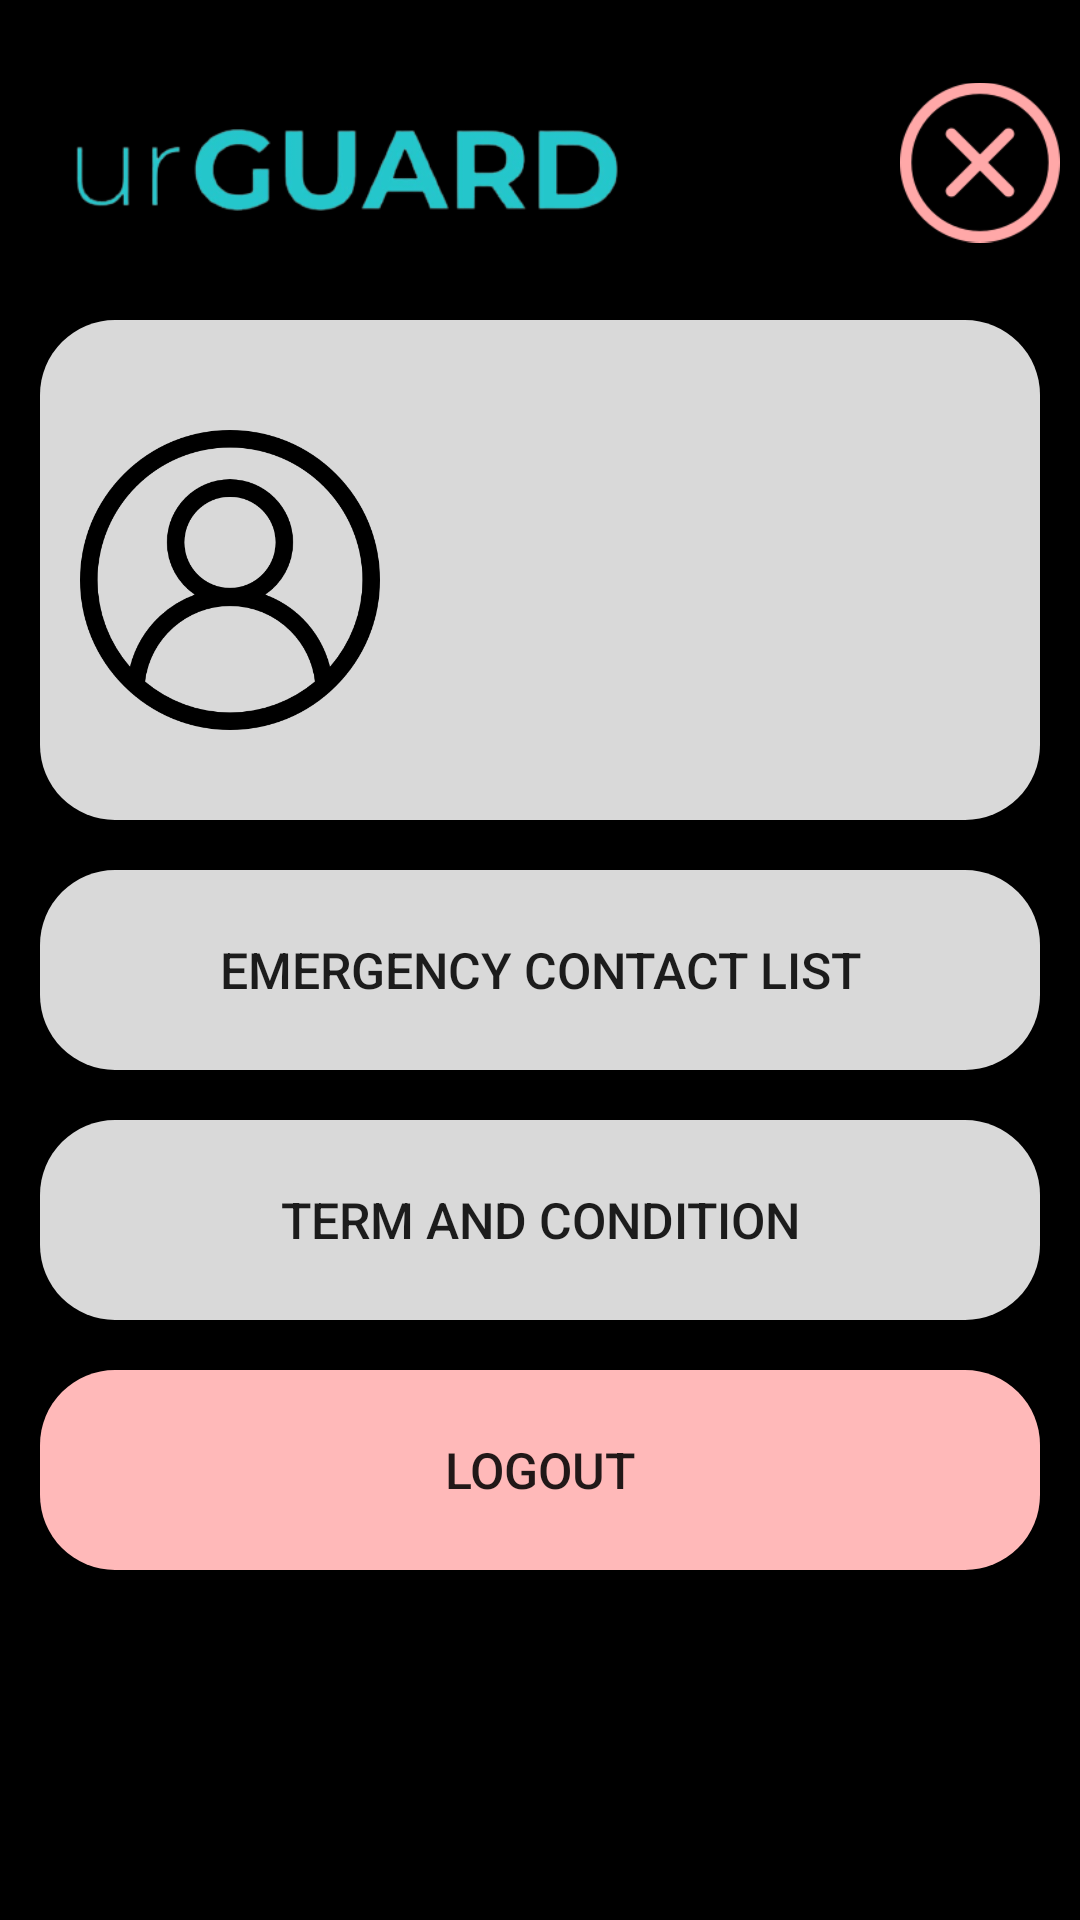

Where icons sit on this 1080px x 1920px app screen, as bbox=(x1, y1, x2, y2):
user: bbox=(80, 430, 380, 730)
